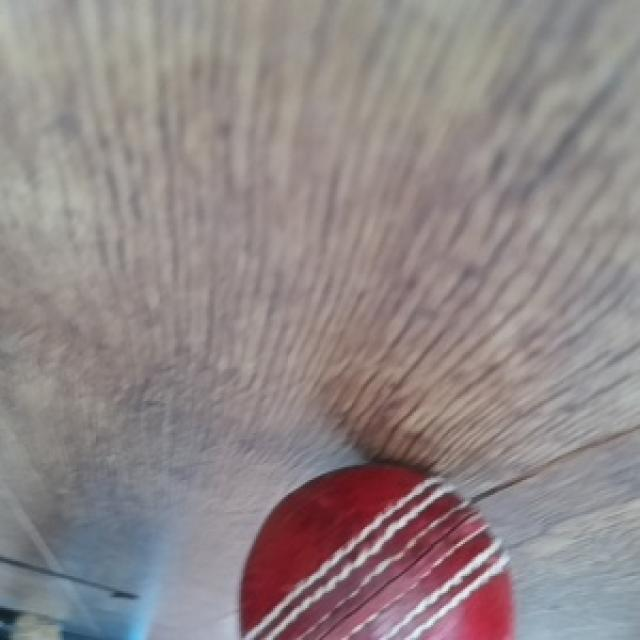ball: (239, 463, 521, 640)
